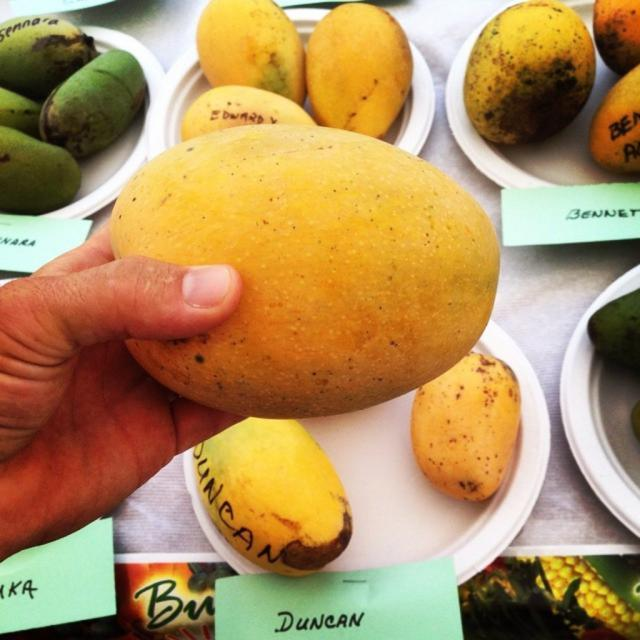Mango: (130, 123, 501, 416), (190, 418, 352, 575), (462, 0, 593, 142), (414, 352, 519, 500), (306, 1, 412, 137), (197, 0, 304, 105), (41, 49, 144, 154), (0, 17, 93, 94), (181, 85, 310, 139), (0, 126, 77, 215), (589, 62, 639, 171), (594, 0, 639, 72), (0, 86, 41, 135)
